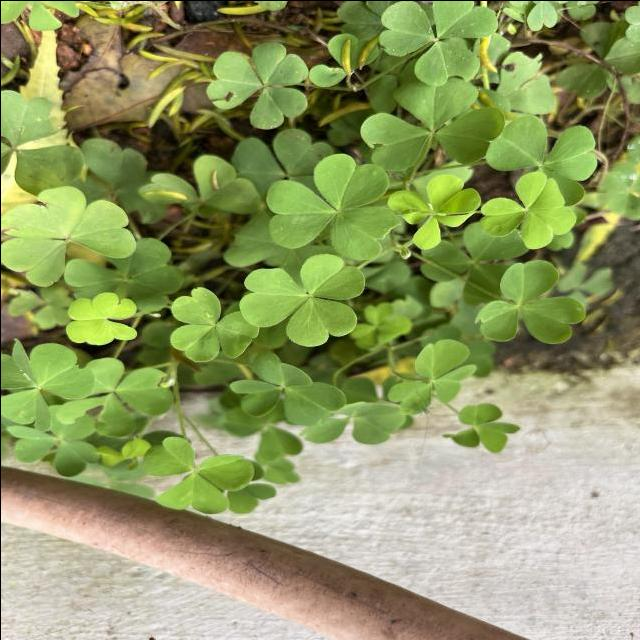Oxalis corniculata: (264, 152, 402, 260), (0, 185, 139, 288), (362, 82, 504, 172), (238, 252, 364, 346), (379, 0, 499, 86), (472, 258, 586, 344), (204, 39, 310, 130), (0, 337, 96, 432), (142, 434, 254, 514), (229, 358, 346, 426), (476, 170, 576, 249), (385, 172, 481, 250), (386, 338, 477, 416), (169, 286, 259, 362), (64, 290, 138, 346)
